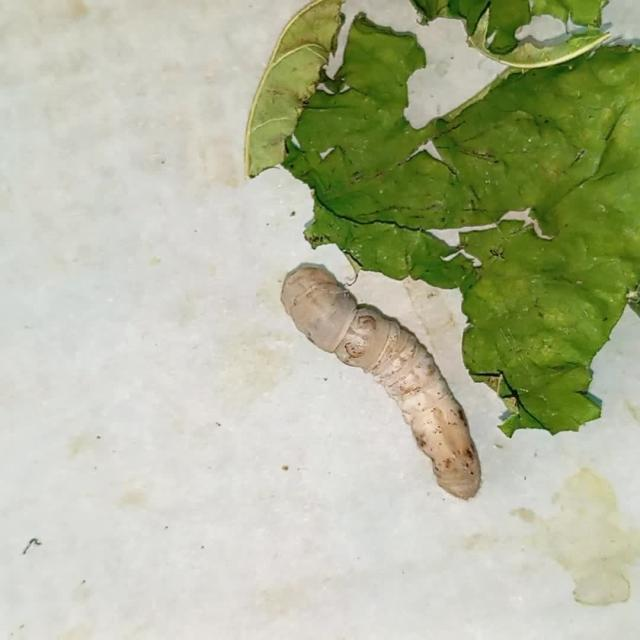Grasserie: (270, 245, 504, 513)
